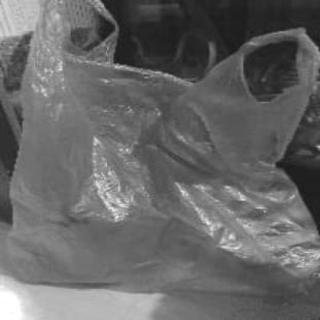objects: (0, 0, 314, 308)
